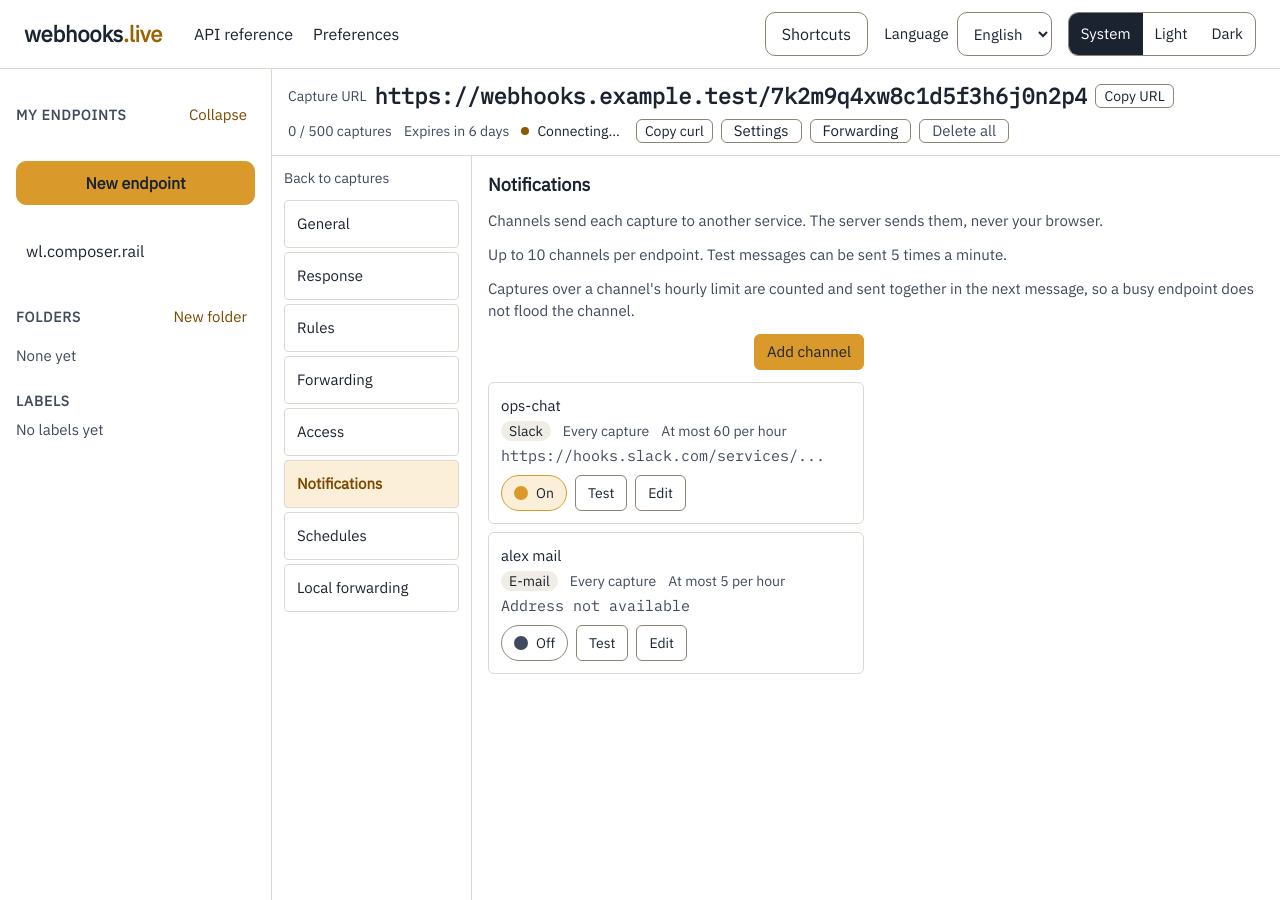
Scenario: notifications section › says when a test is sent too often and when to try again
Click the button with aria-label "Send a test to ops-chat": (601, 493) [575,475,627,511]
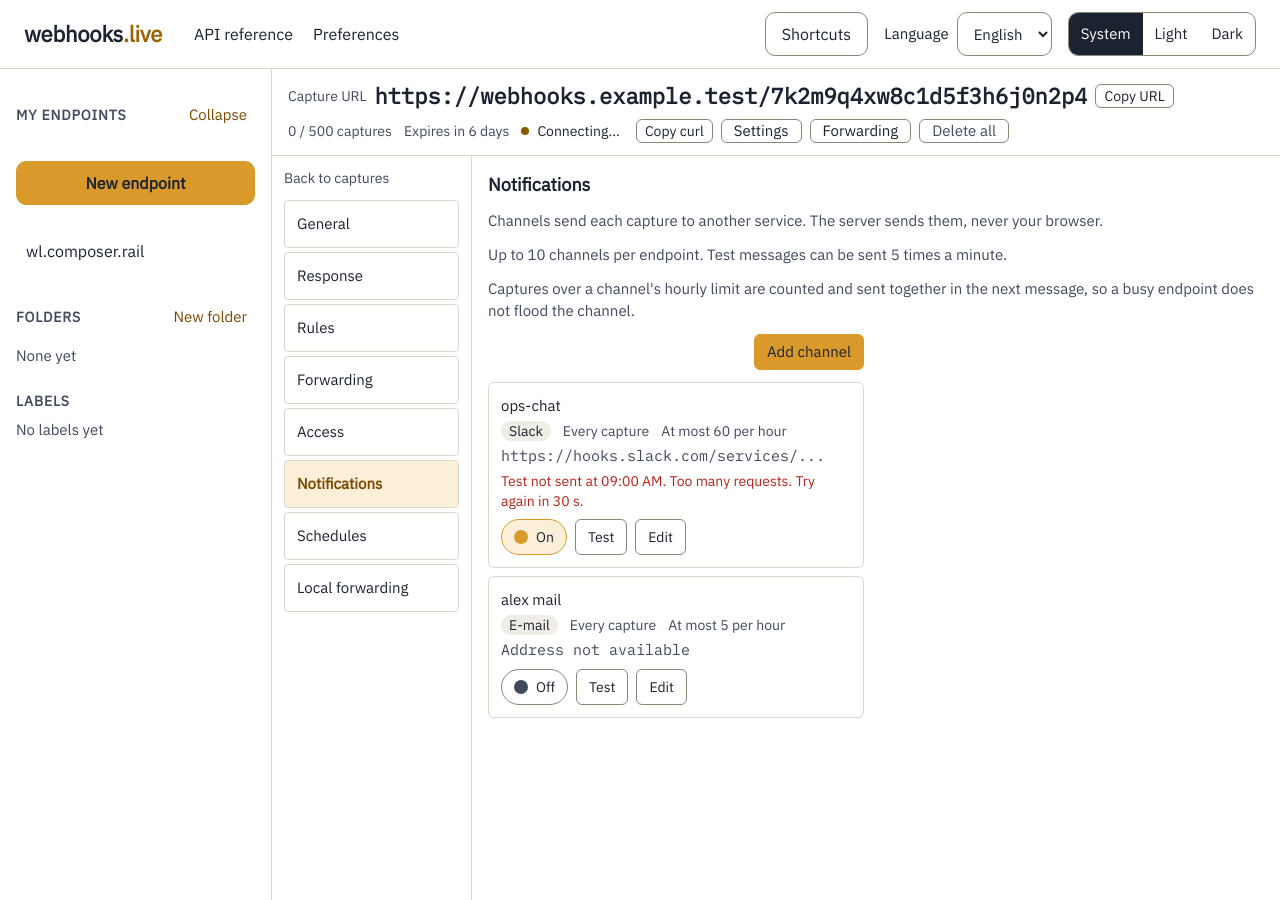
Expected: the text "Test not sent at 09:00 AM. Too many requests. Try again in 30 s." is shown, [501,471,851,511]
